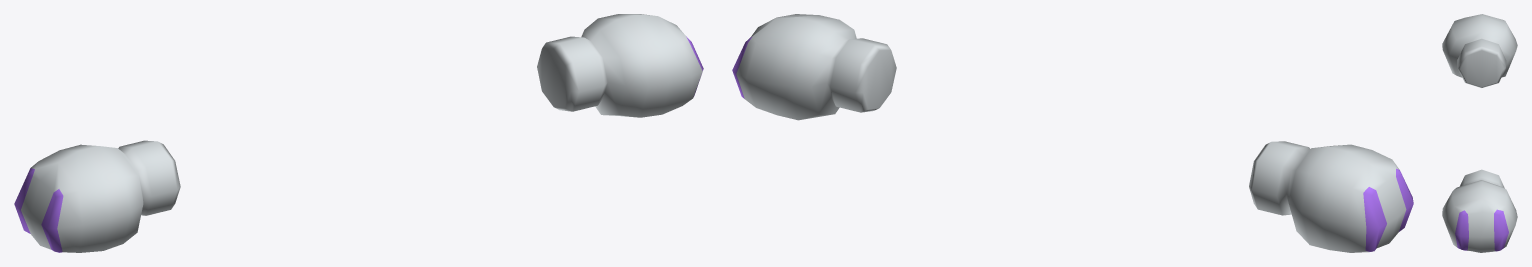
Rendered from Glove_8.fbx.
3 views of the same model, side by side, from view 1: azimuth 30°, elevation 25°; view 2: azimuth 150°, elevation 25°; view 3: azimuth 270°, elevation 25° (orthographic). The views are drawn at different scales.
Visible parts, largest first — view 1: Glove_8; view 2: Glove_8; view 3: Glove_8.
Boxes of the visible parts, x1,y1,x2,y2 form: Glove_8: (14,14,703,252); Glove_8: (732,14,1413,252); Glove_8: (1442,14,1517,252).
Size of the model in its own units: 136 by 19.01 by 21.48.
